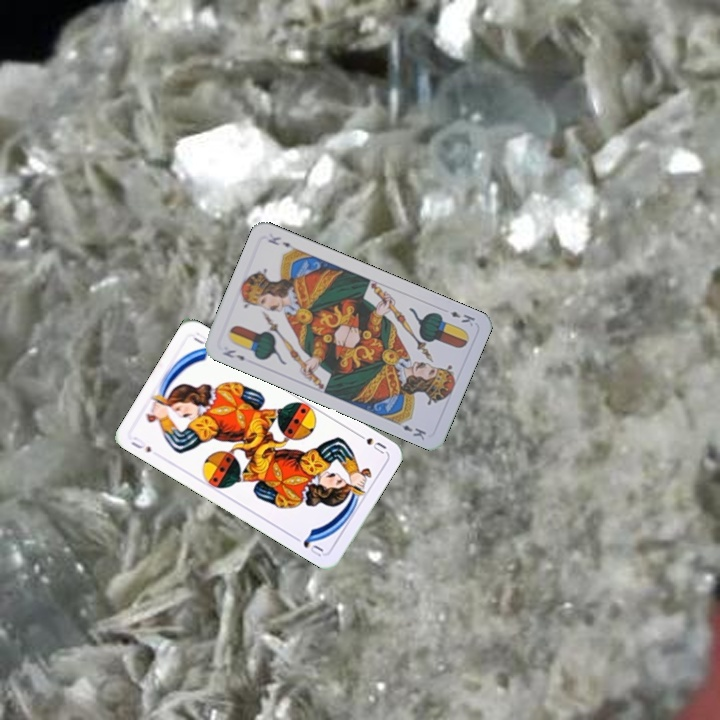EK: (446, 307, 478, 329), (219, 346, 247, 363)
SU: (352, 428, 389, 457), (126, 433, 154, 455)
